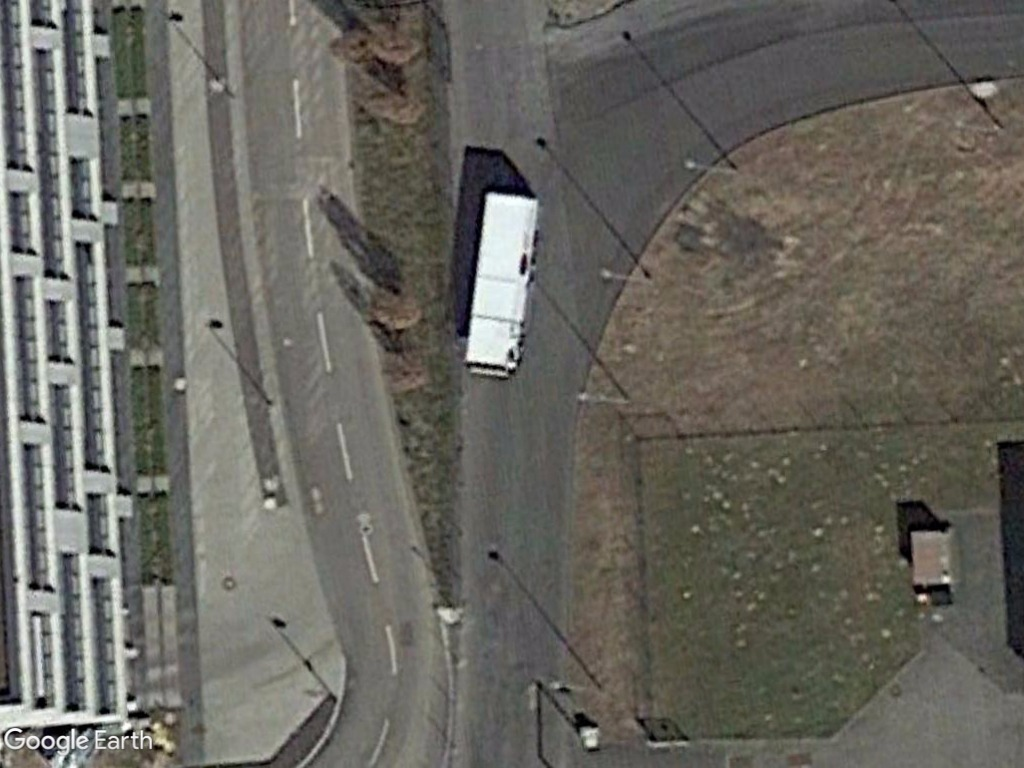longvehicle: (457, 187, 542, 386)
